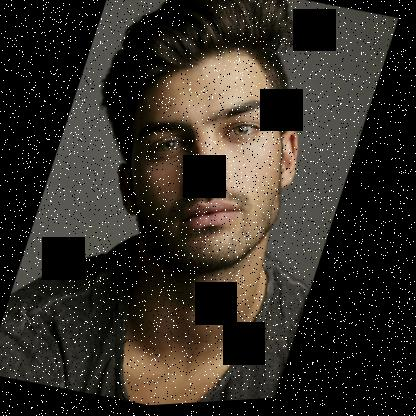Male: (91, 32, 333, 295)
